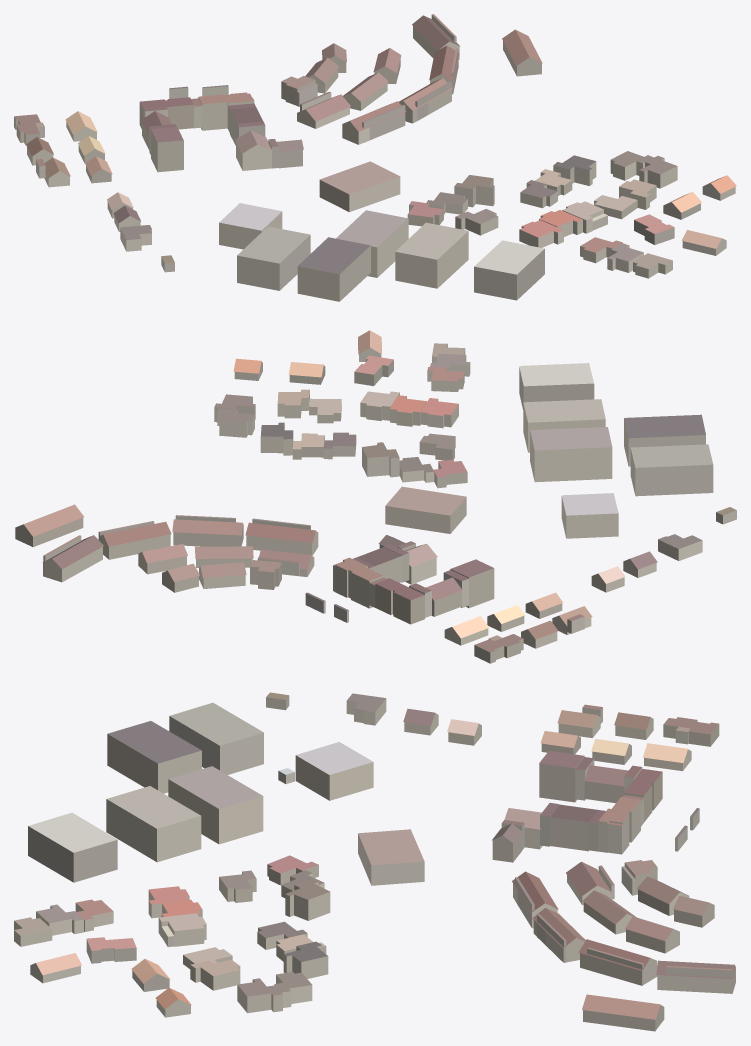
3 views of the same model, one above another, from view 1: azimuth 30°, elevation 25°; view 2: azimuth 150°, elevation 25°; view 3: azimuth 270°, elevation 25° (orthographic). The views are drawn at different scales.
Visible parts, largest first — view 1: tuile; view 2: tuile; view 3: tuile.
Boxes of the visible parts, left/top/right/bottom form: tuile: left=14, top=14, right=736, bottom=301; tuile: left=15, top=330, right=736, bottom=663; tuile: left=14, top=692, right=735, bottom=1031.
Bounding box in the file's own units: 257 × 23.08 × 261.
